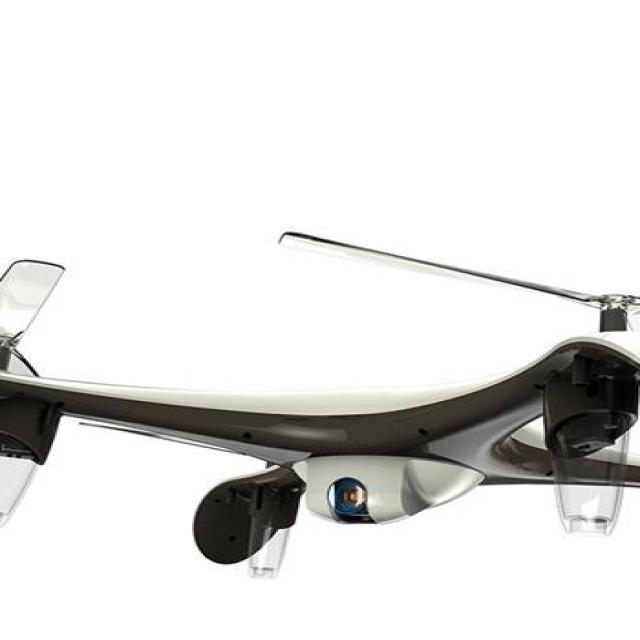drone: (0, 225, 640, 612)
